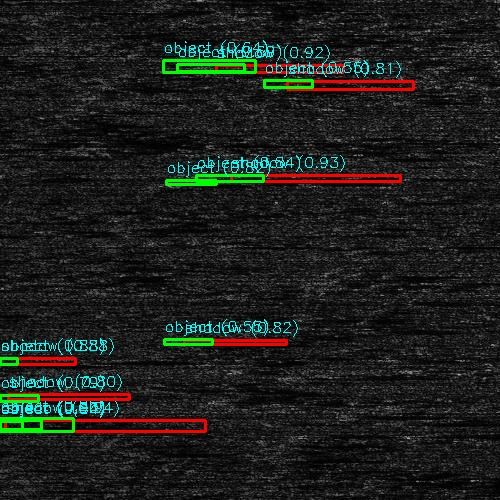rock: (0, 418, 62, 427), (0, 392, 42, 403), (185, 176, 268, 181), (0, 359, 20, 364), (493, 381, 500, 392)
shadow: (16, 418, 196, 427), (16, 392, 127, 403), (227, 176, 386, 181), (0, 359, 71, 364), (184, 341, 285, 344)
